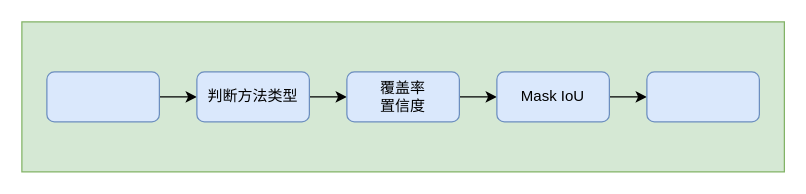
Image size: 806x194. Some labels were removed from this diagram. The centre of each missing label's shape, as x and y in pixels:
"读取检测结果" belongs at pixel 102 96.
"返回指标" belongs at pixel 702 96.
